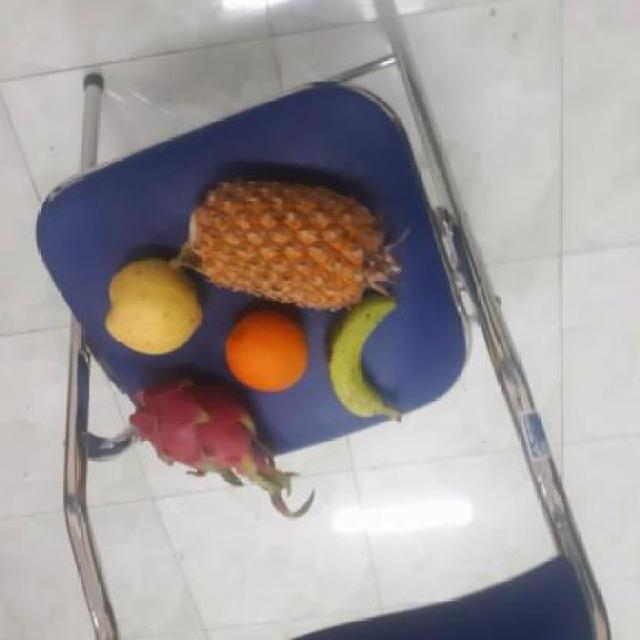dragon fruit: (135, 371, 274, 474)
oren: (222, 303, 313, 392)
pear: (102, 255, 206, 354)
pineapple: (182, 176, 400, 312)
